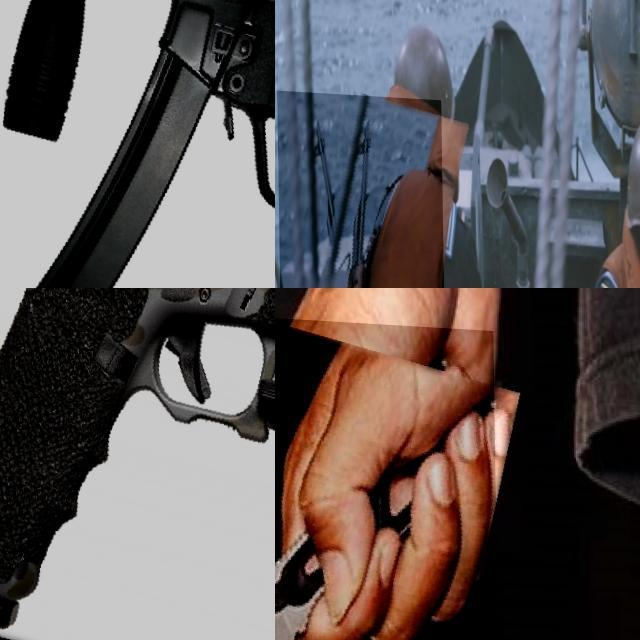-: (275, 308, 499, 640)
gun-knife-thesis - v11 Yolov5 augmented: (0, 288, 275, 640), (0, 0, 275, 288), (276, 89, 446, 288)
